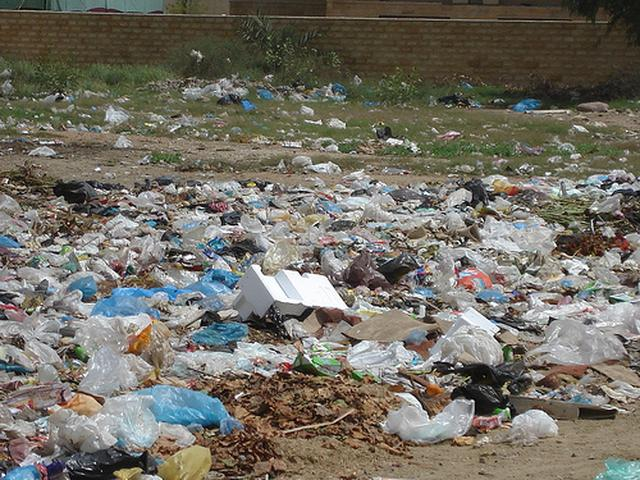garbage: (16, 188, 627, 399)
